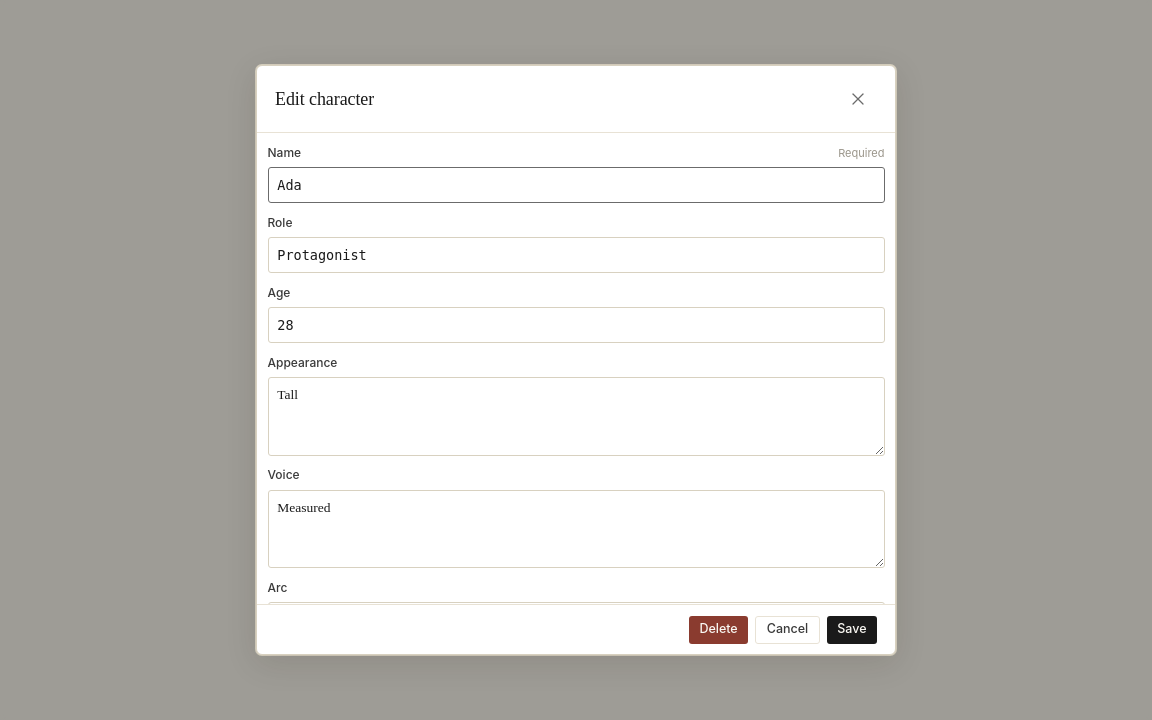
Test: CharacterSheet (F19) › Save button disabled when name is empty
The width and height of the screenshot is (1152, 720).
Clear the field labelled "Name Required". click: x=576, y=185
box: [268,167,884,203]
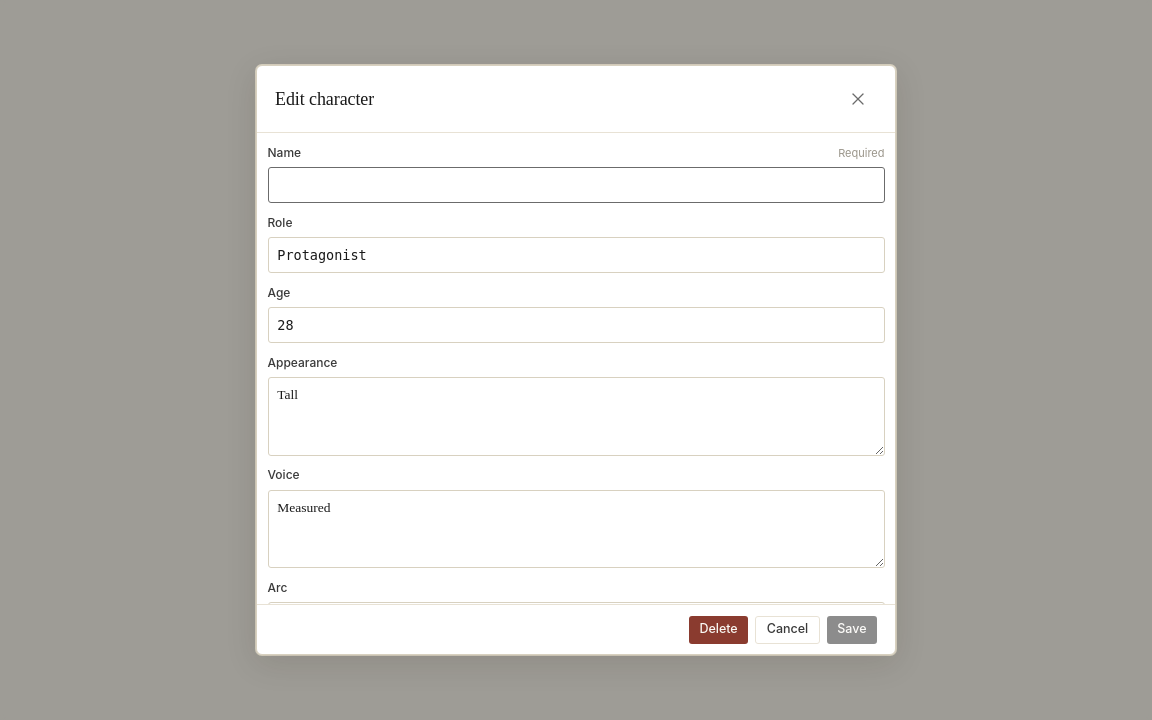
Expected: the button "Save" is disabled, [827,616,877,644]
